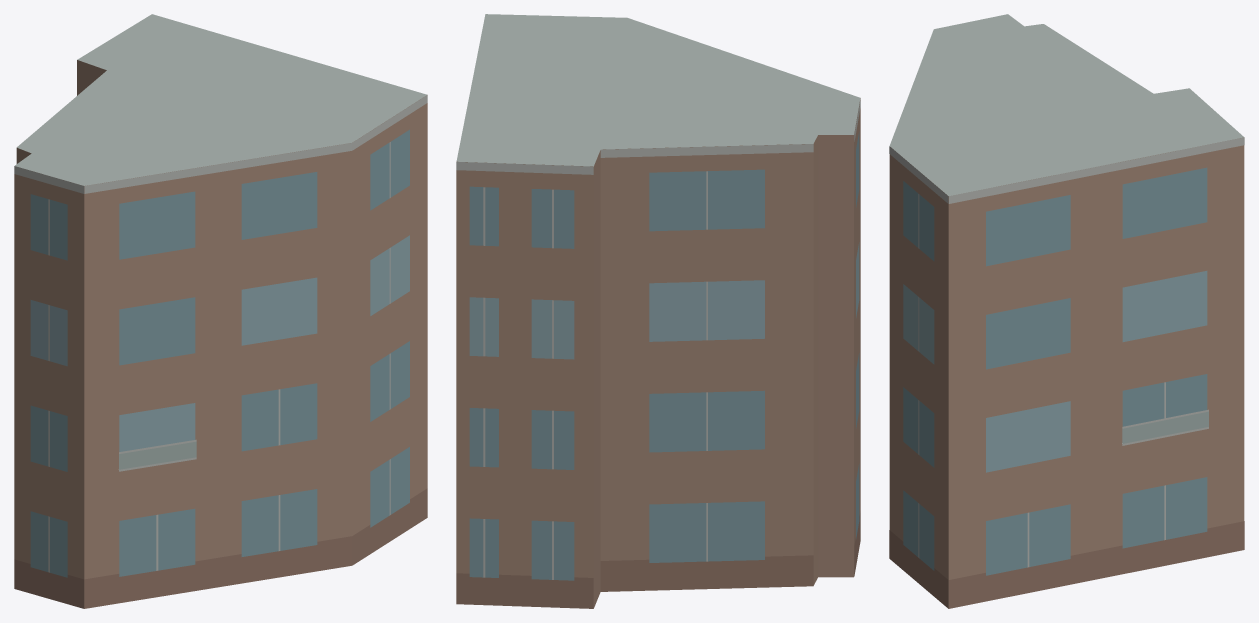
The model's file is survey-upis-32924098.glb.
3 views of the same model, side by side, from view 1: azimuth 30°, elevation 25°; view 2: azimuth 150°, elevation 25°; view 3: azimuth 270°, elevation 25° (orthographic). The views are drawn at different scales.
Visible parts, largest first — view 1: survey-upis-32924098.tmp; view 2: survey-upis-32924098.tmp; view 3: survey-upis-32924098.tmp.
Boxes of the visible parts, x1,y1,x2,y2 form: survey-upis-32924098.tmp: [14, 14, 427, 608]; survey-upis-32924098.tmp: [456, 14, 860, 608]; survey-upis-32924098.tmp: [889, 14, 1244, 608].
Size of the model in its own units: 12.14 by 12.8 by 9.99.
